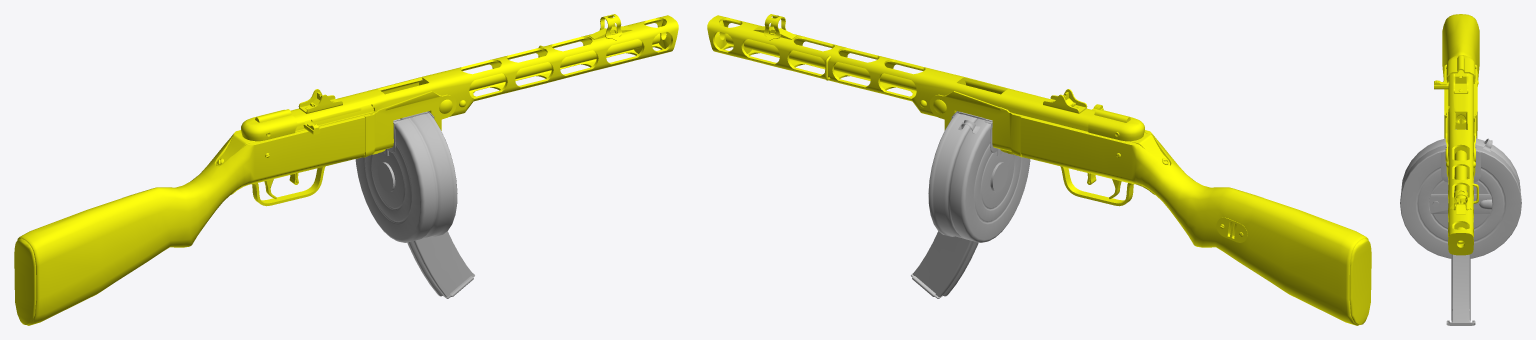
Rendered from ppsh.gltf.
3 views of the same model, side by side, from view 1: azimuth 30°, elevation 25°; view 2: azimuth 150°, elevation 25°; view 3: azimuth 270°, elevation 25° (orthographic). The views are drawn at different scales.
Parts seen in each view (by area): view 1: stock, metal, Drum_Magazine, trigger_bolt, Stick_Magazine, barrel; view 2: stock, metal, Drum_Magazine, trigger_bolt, Stick_Magazine, barrel; view 3: Drum_Magazine, metal, stock, Stick_Magazine, barrel, trigger_bolt.
Part boxes in pixels (x1,y1,x2,y2): stock: (20, 113, 373, 325); metal: (215, 14, 678, 166); Drum_Magazine: (355, 111, 457, 242); trigger_bolt: (14, 28, 614, 325); Stick_Magazine: (384, 112, 474, 298); barrel: (295, 33, 660, 134); stock: (1013, 113, 1365, 325); metal: (707, 14, 1169, 166); Drum_Magazine: (928, 111, 1030, 242); trigger_bolt: (771, 28, 1371, 325); Stick_Magazine: (911, 112, 1001, 298); barrel: (725, 33, 1103, 109); Drum_Magazine: (1400, 136, 1521, 258); metal: (1444, 55, 1476, 255); stock: (1442, 14, 1479, 138); Stick_Magazine: (1445, 129, 1476, 325); barrel: (1434, 83, 1467, 243); trigger_bolt: (1434, 64, 1478, 204).
Bounding box in the file's own units: 47.03 × 16.41 × 8.79.
Materials: 2 (1 with a texture image).
